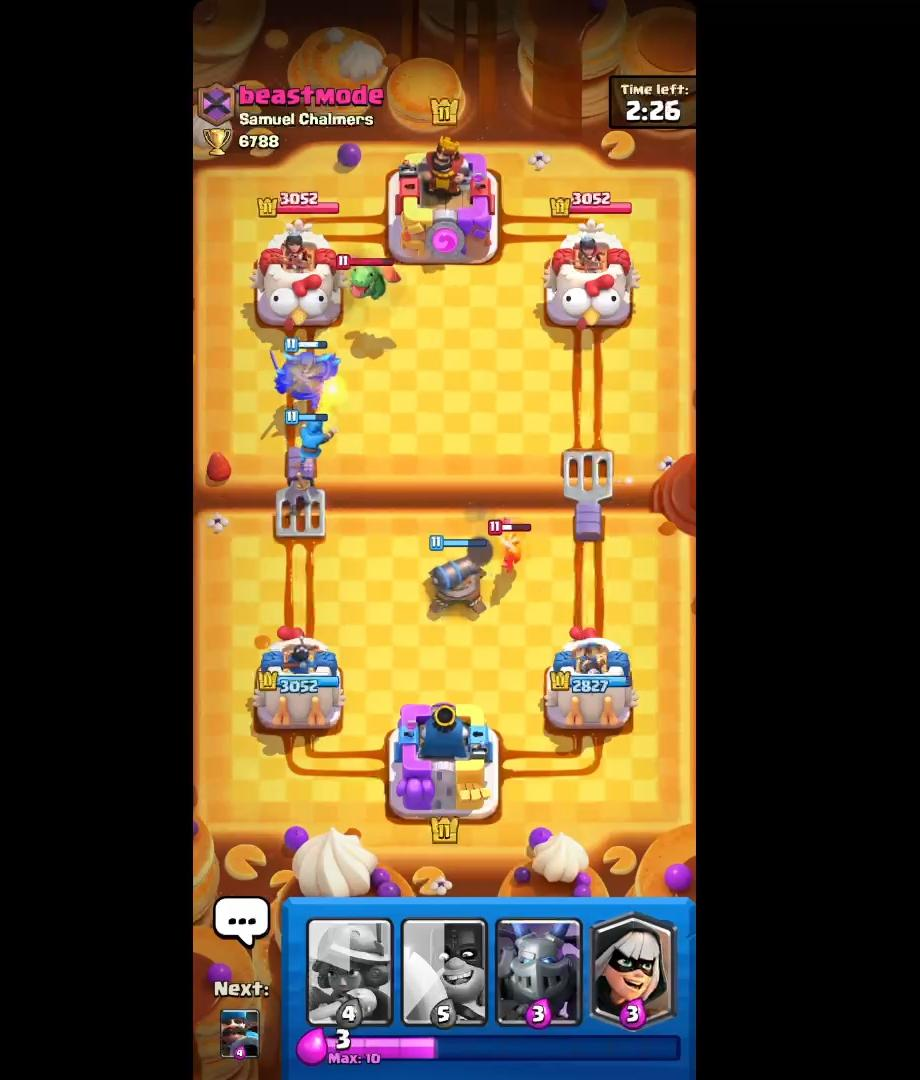Baby Dragon: (335, 248, 402, 318)
Valkyrie: (486, 514, 531, 580)
